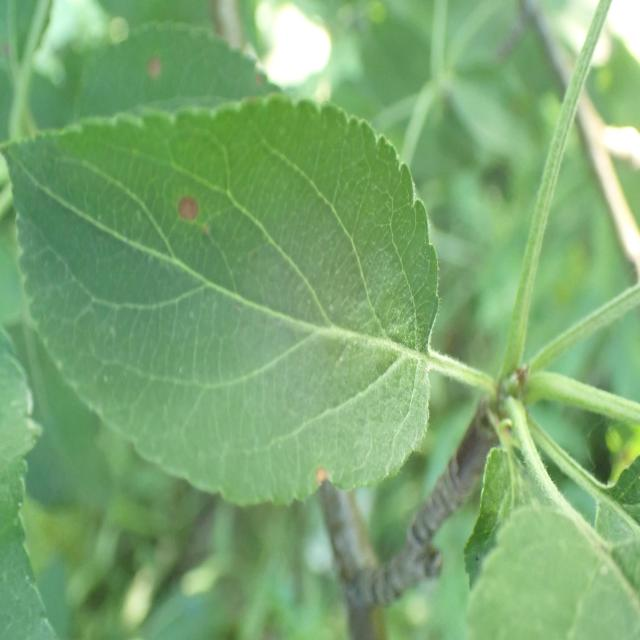Black Rot: (166, 173, 236, 259), (286, 453, 348, 497), (136, 50, 186, 88)
